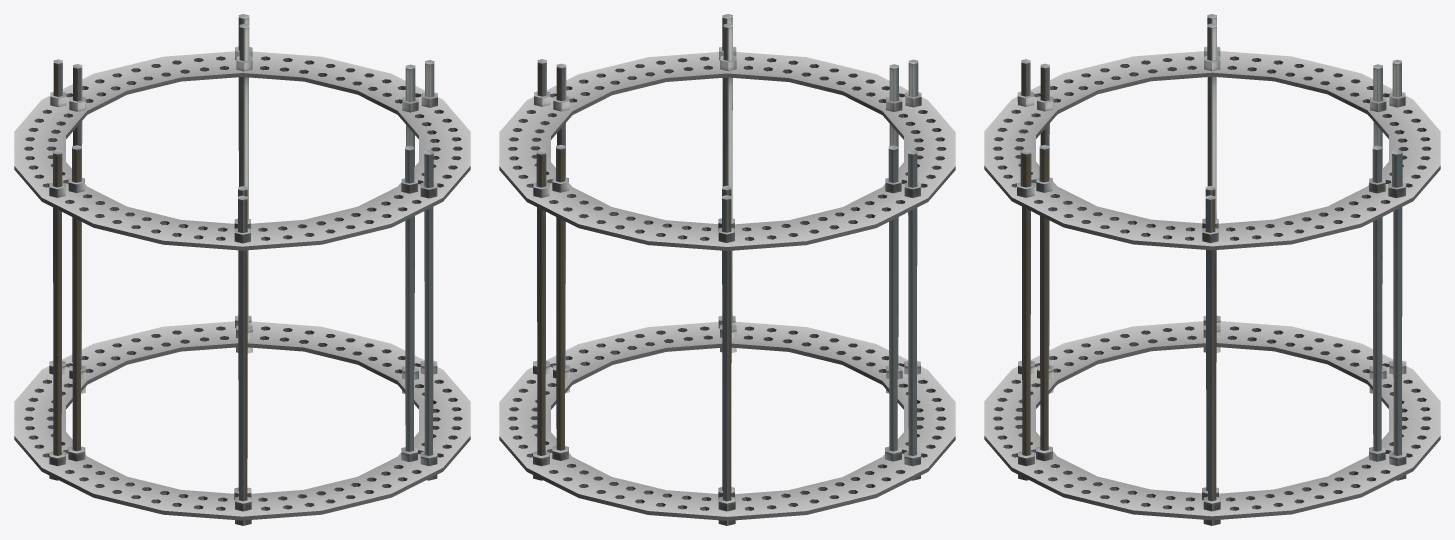
The model's file is zhiqu_neibumoxing_maoshuan.glb.
3 renders of one model, left to right at view 1: azimuth 30°, elevation 25°; view 2: azimuth 150°, elevation 25°; view 3: azimuth 270°, elevation 25°, orthographic.
Parts seen in each view (by area): view 1: neibumoxing_maoshuan; view 2: neibumoxing_maoshuan; view 3: neibumoxing_maoshuan.
Boxes of the visible parts, bbox=[...] form: neibumoxing_maoshuan: bbox=[14, 14, 470, 525]; neibumoxing_maoshuan: bbox=[499, 14, 955, 525]; neibumoxing_maoshuan: bbox=[984, 14, 1440, 525].
Size of the model in its own units: 524 by 405 by 516.
Materials: 1 (1 with a texture image).
